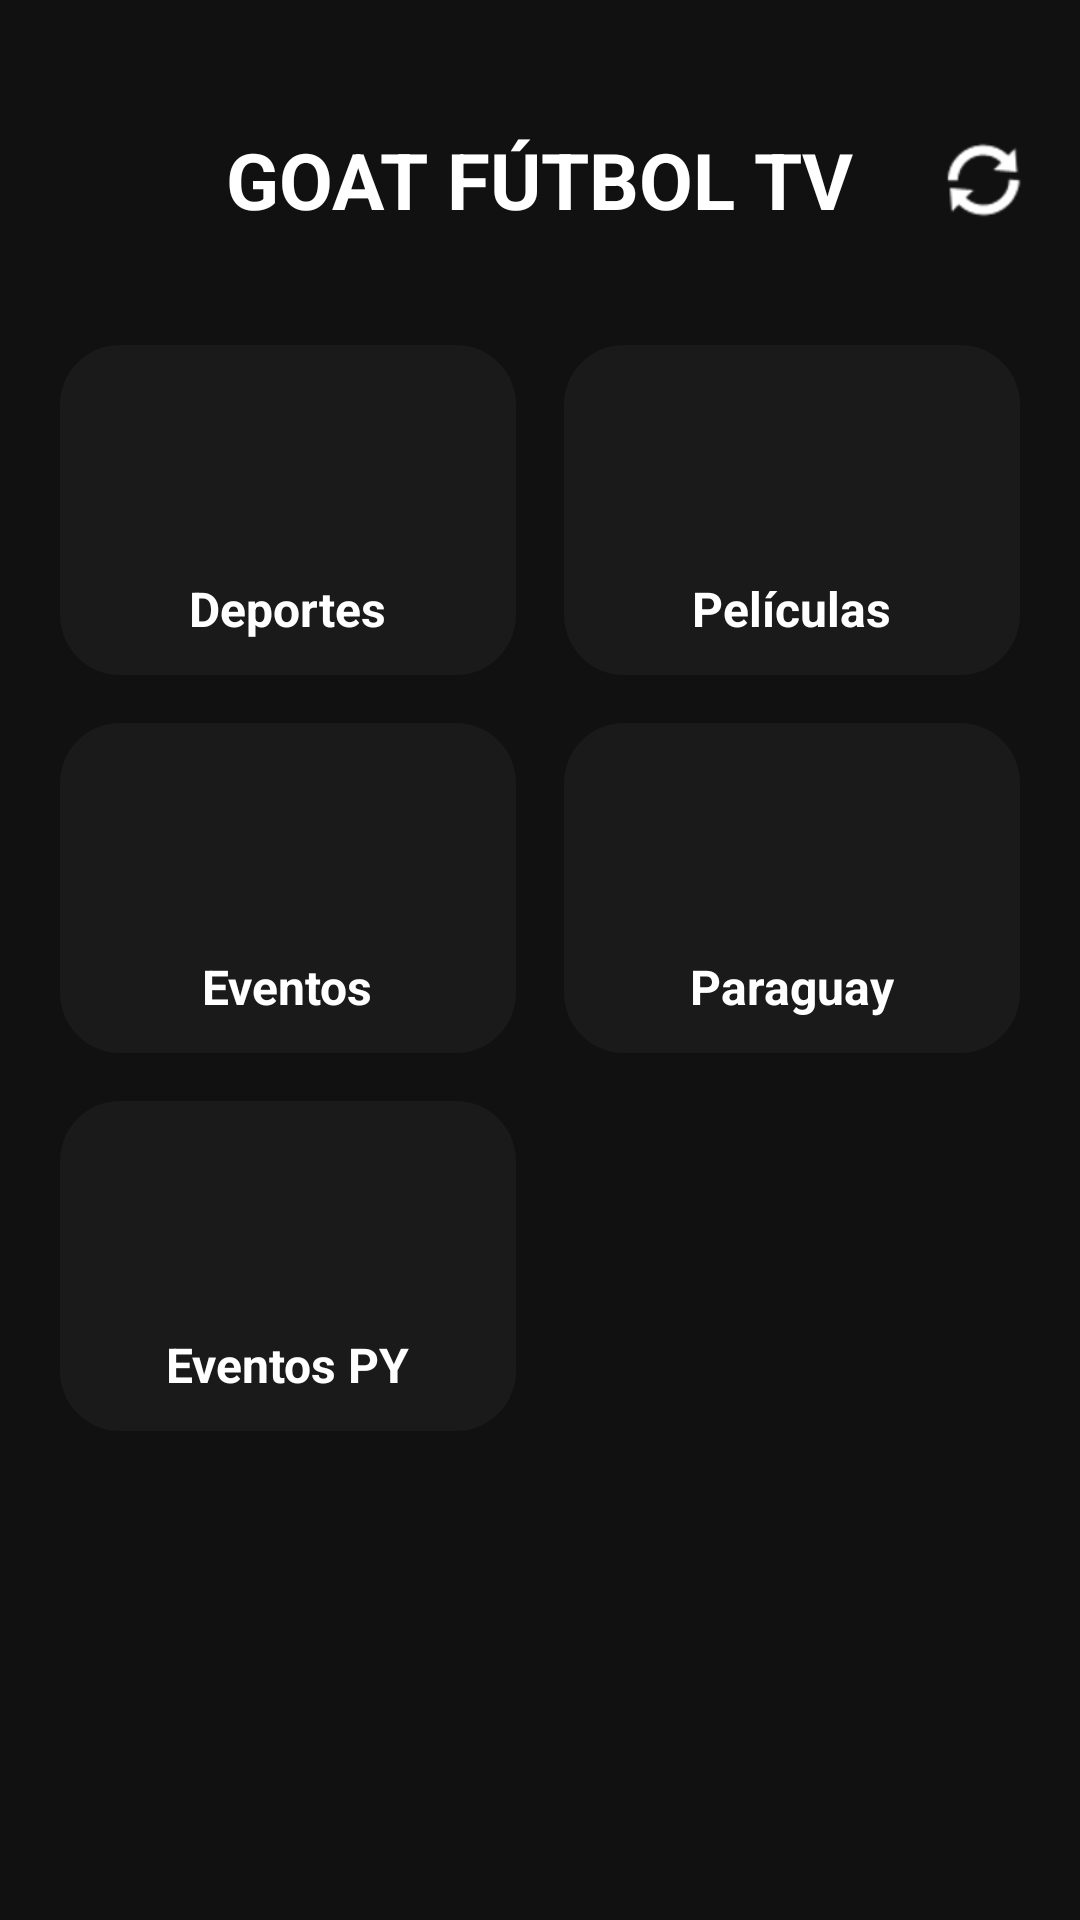

Where icons sit on this 1080 × 1920 app screen, as (x1, y1, x2, y2):
popup sync: (947, 144, 1021, 216)
